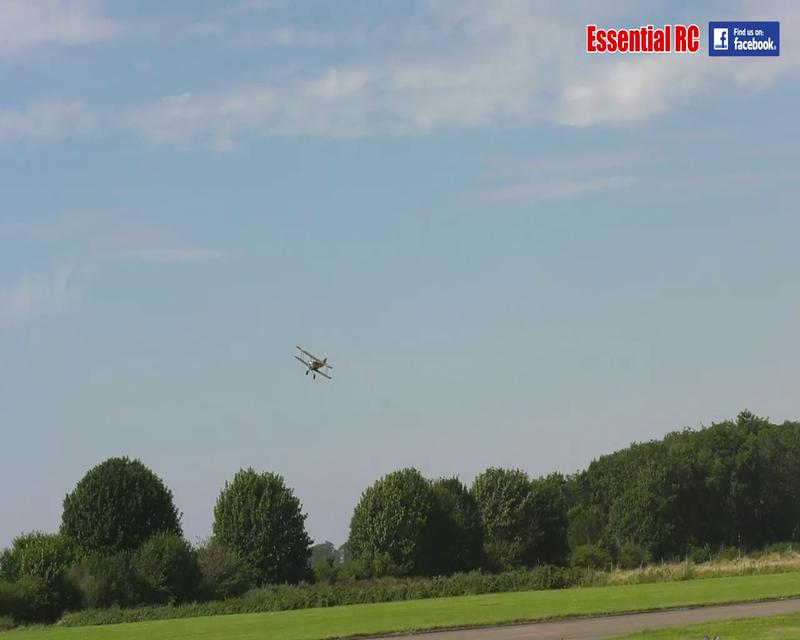UAV: (296, 345, 334, 382)
